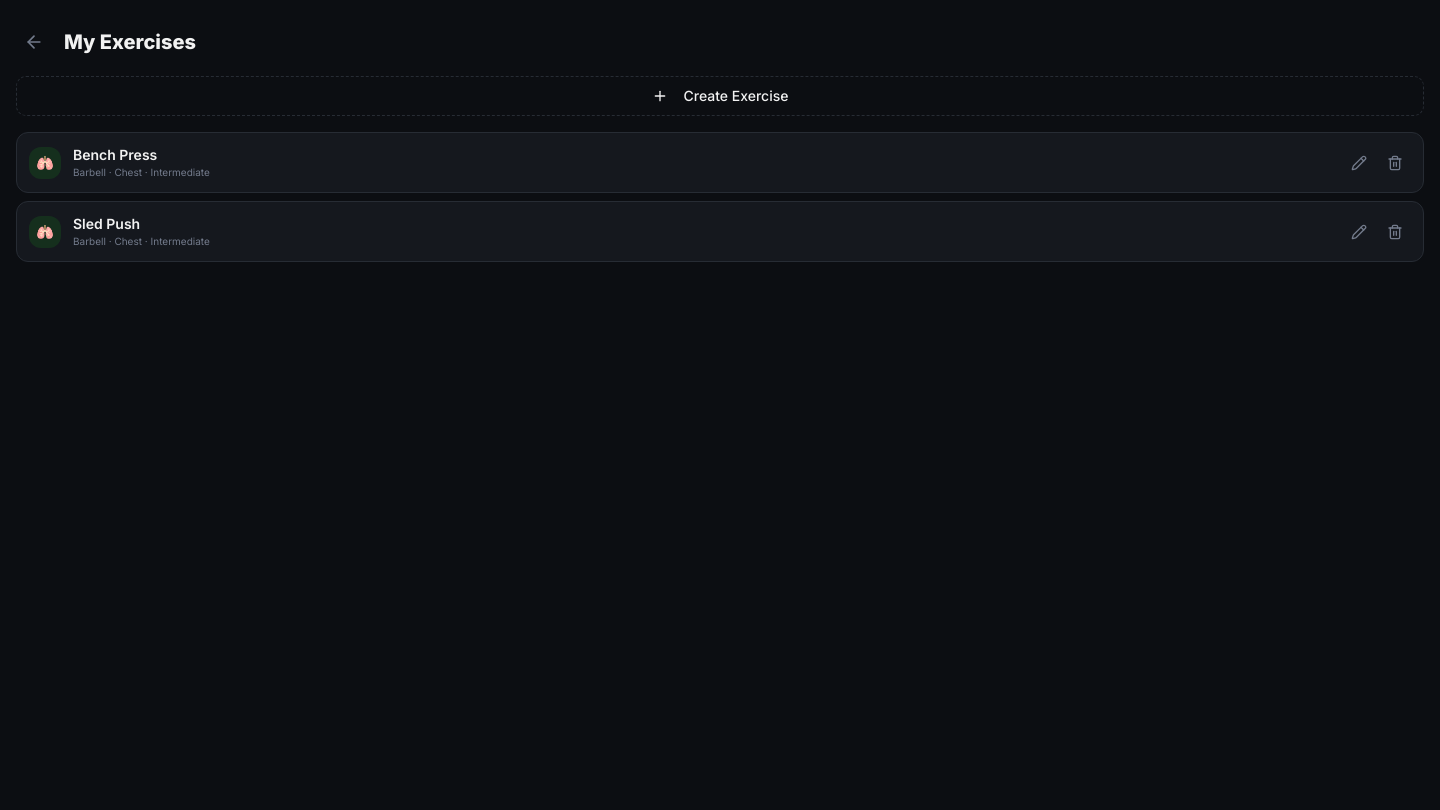
Test: editing a custom exercise › scrolls again when a second exercise is edited while the form is open
Step 1. Click the button named "Edit Sled Push" → (1359, 232), box x1=1343 y1=216 x2=1375 y2=248
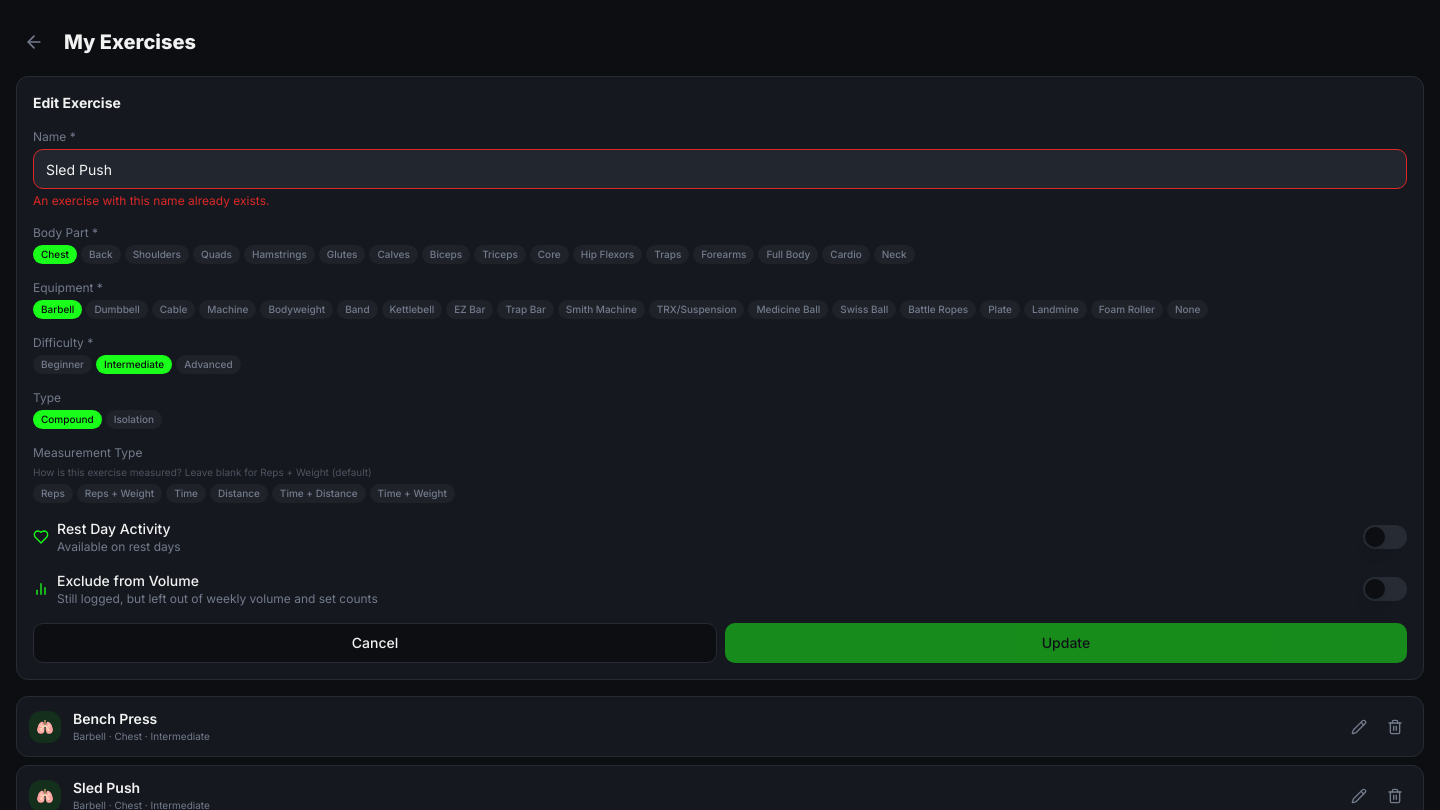
Step 2. Click the button named "Edit Bench Press" → (1359, 726), box x1=1343 y1=710 x2=1375 y2=742
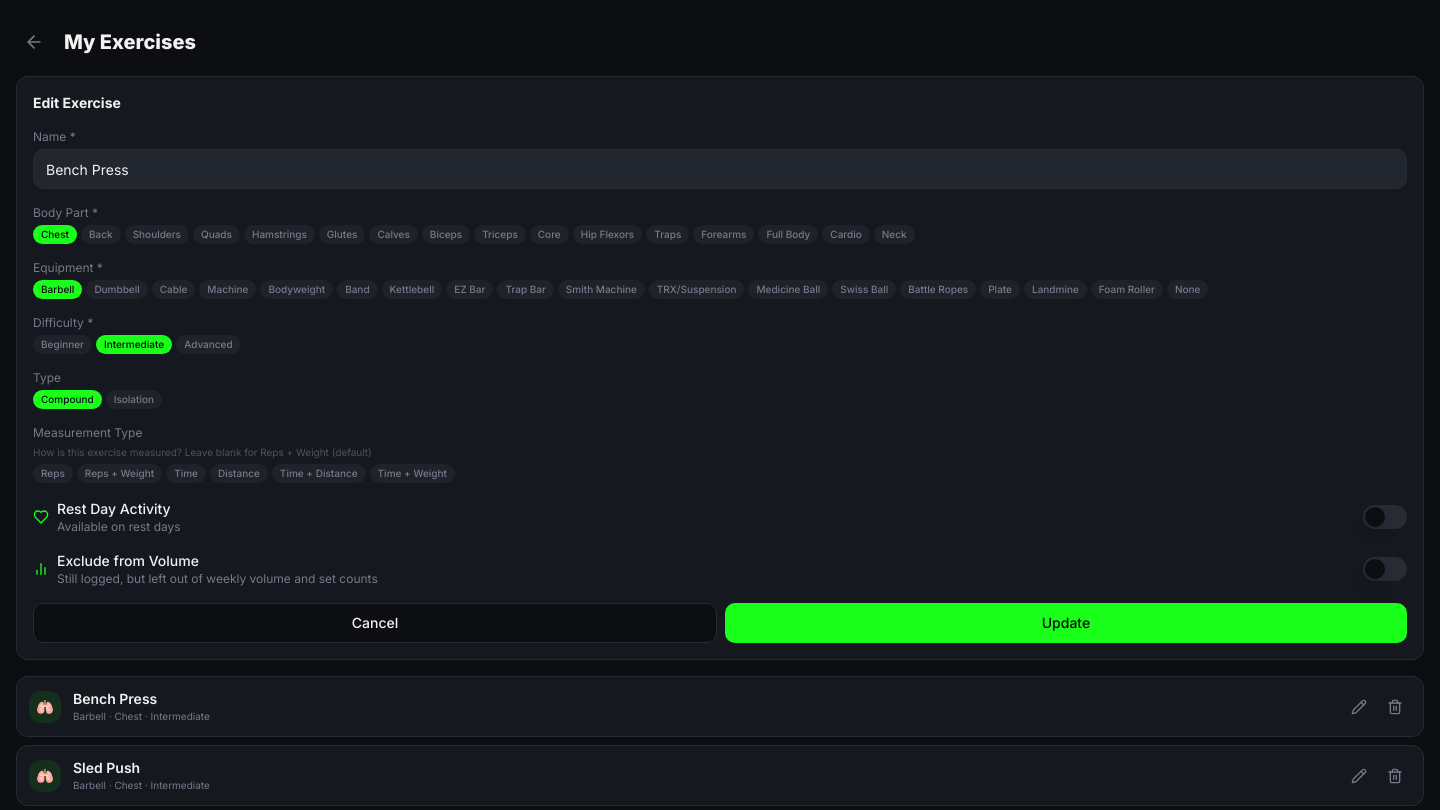
Expected: the field showing "Bench Press" is shown, x1=33 y1=149 x2=1407 y2=189
